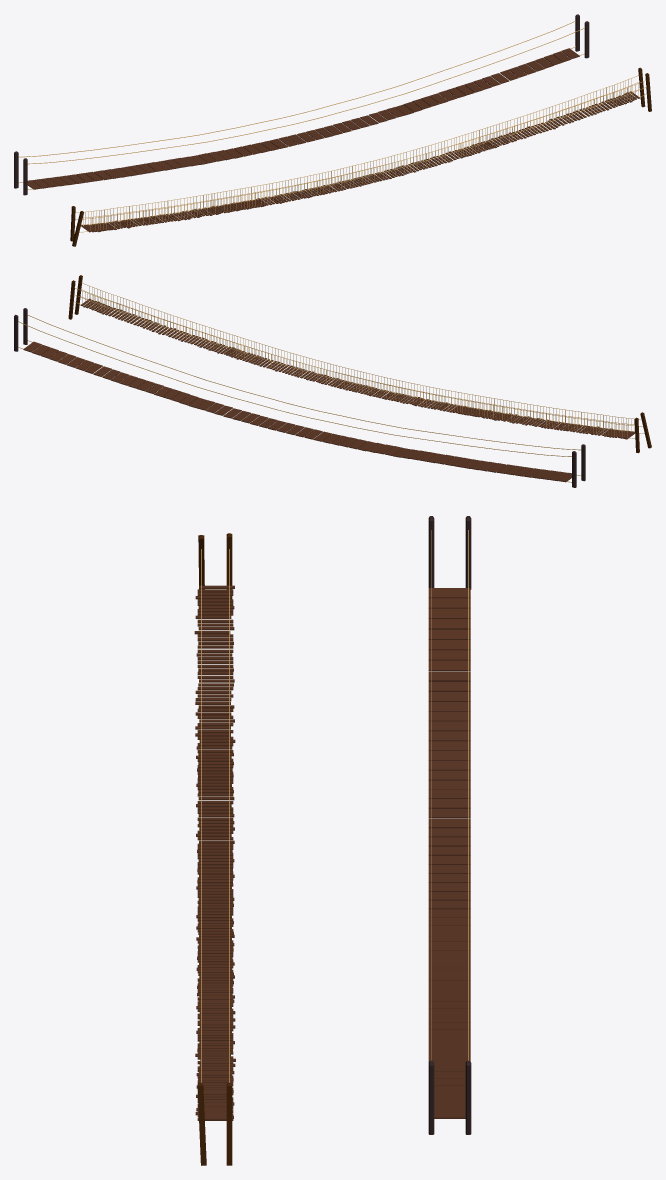
File: PonteSuspensa_V2.fbx
The picture shows the model from 3 angles, top to bottom: view 1: azimuth 30°, elevation 25°; view 2: azimuth 150°, elevation 25°; view 3: azimuth 270°, elevation 25°; orthographic projection. The views are drawn at different scales.
Parts seen in each view (by area): view 1: Cube.006, Cube.002, Cube, Cube.003; view 2: Cube.006, Cube.002, Cube, Cube.003; view 3: Cube.006, Cube, Cube.003, Cube.002.
Part boxes in pixels (x1,y1,x2,y2): Cube.006: (14, 14, 589, 195); Cube.002: (75, 75, 646, 232); Cube: (81, 91, 639, 232); Cube.003: (70, 67, 651, 246); Cube.006: (14, 308, 585, 487); Cube.002: (73, 282, 644, 438); Cube: (80, 298, 635, 439); Cube.003: (68, 275, 651, 453); Cube.006: (428, 516, 471, 1134); Cube: (194, 585, 235, 1120); Cube.003: (197, 533, 232, 1165); Cube.002: (201, 549, 229, 1082).
Size of the model in its own units: 46389 by 3983 by 9653.
2 materials, 1 textured.
